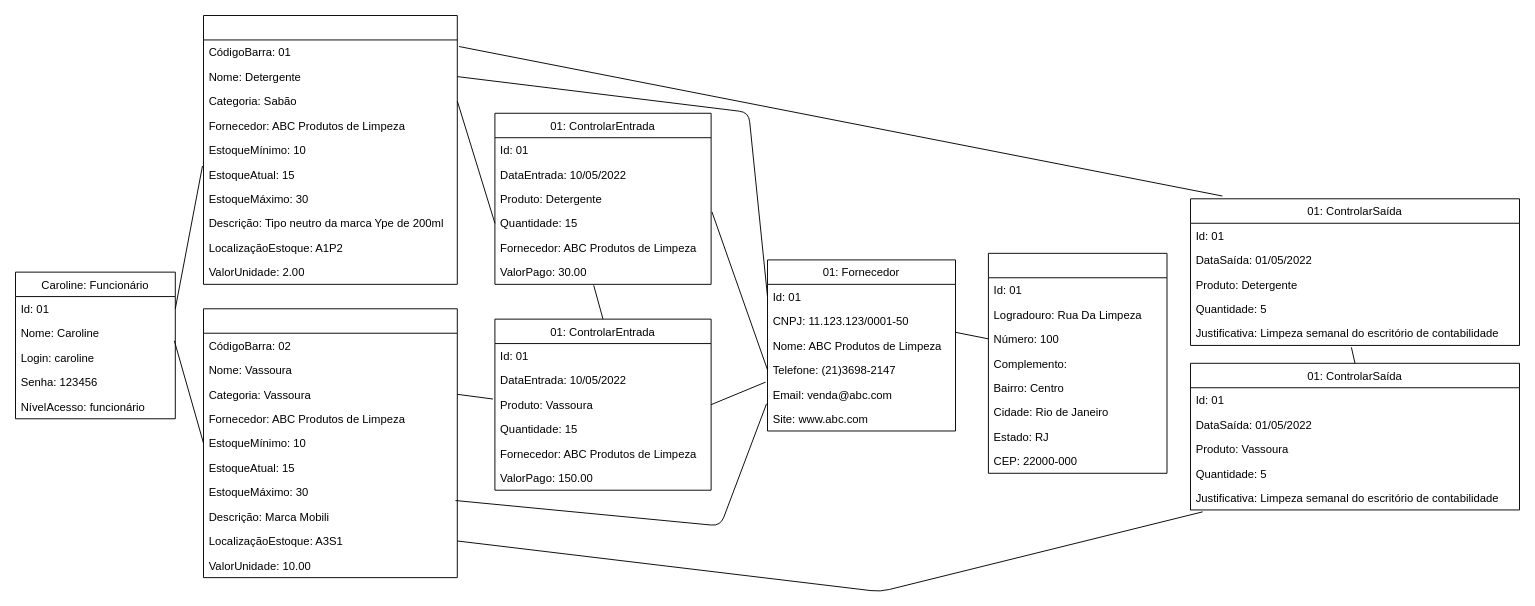
This 1535x606 diagram has some shape labels left out. Here are the shapes that lost their labels. From the top down, the box of each, then its label:
(203, 15, 457, 284): Detergente: Produto
(987, 252, 1167, 473): 01: Endereço
(203, 308, 457, 578): Vassoura: Produto
